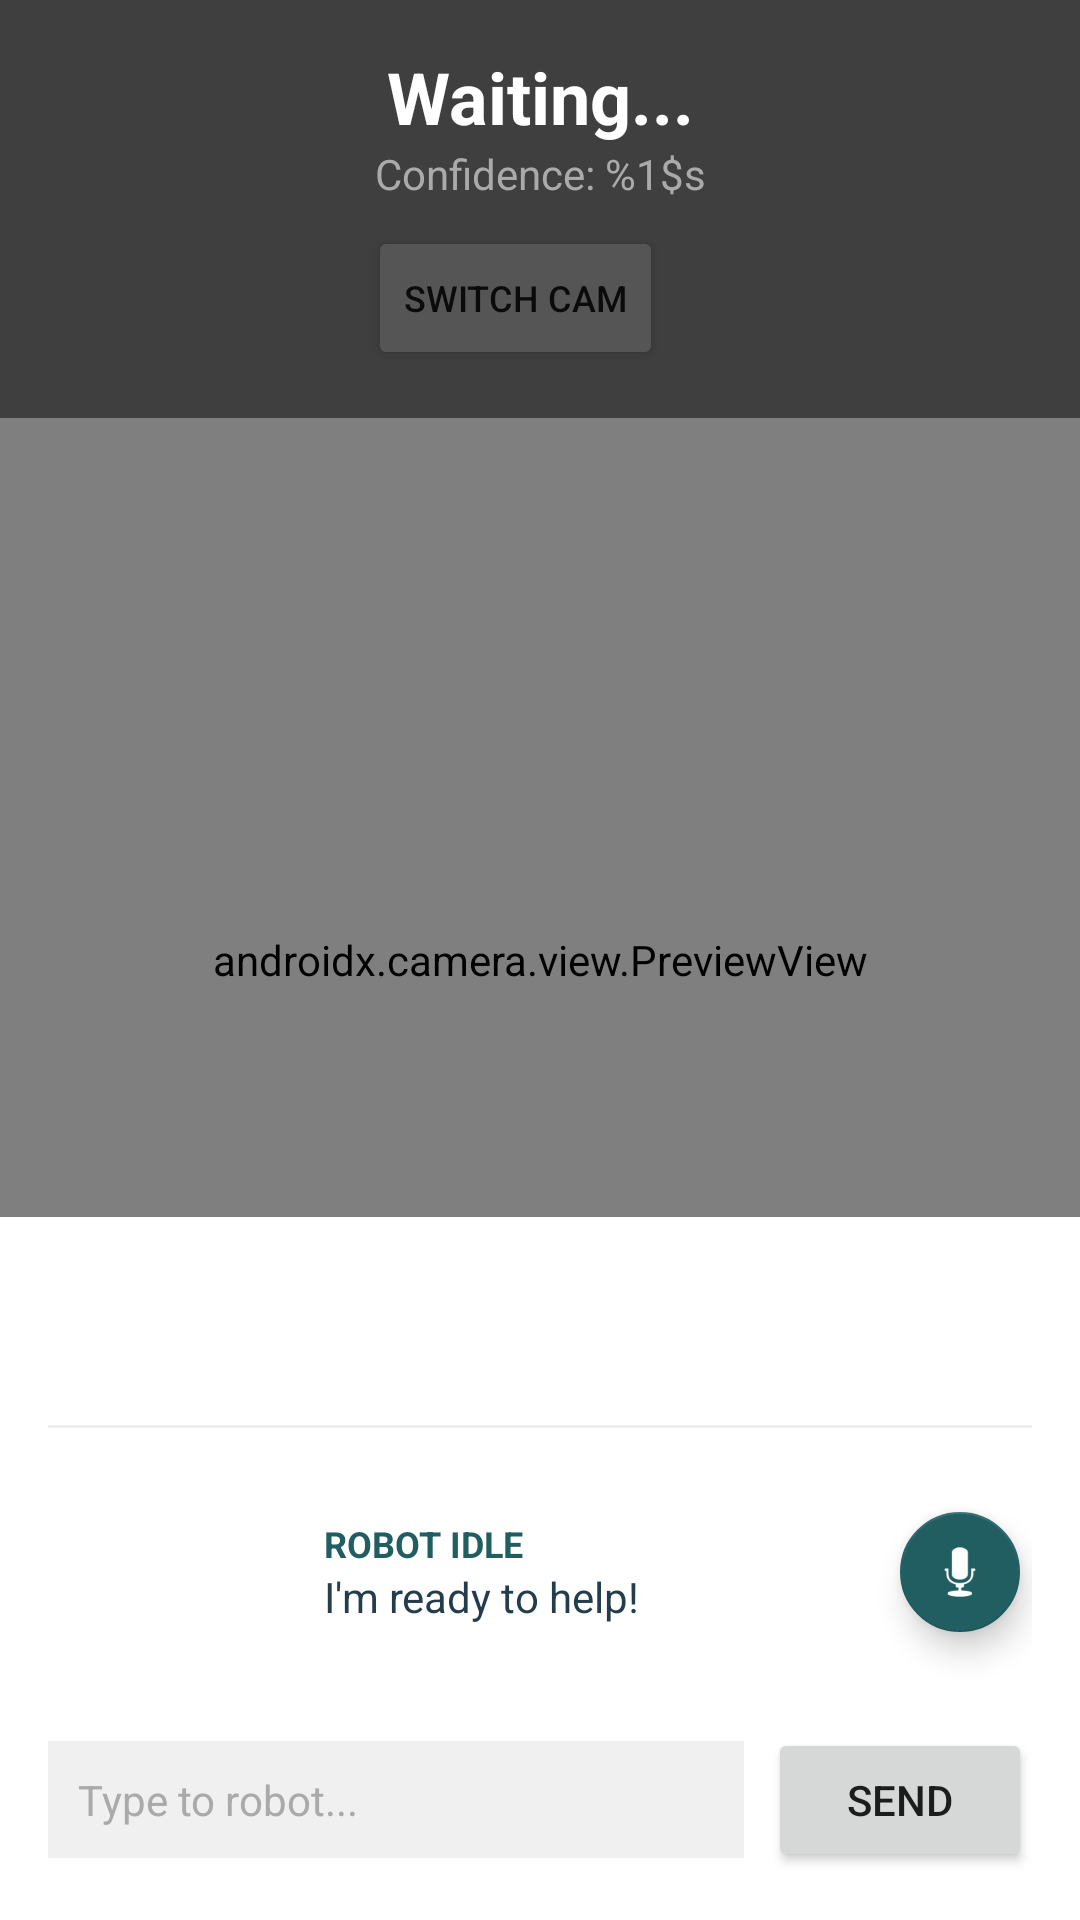

Named icons in this screenshot (1080 × 1920) and their centers, (x=x, y=y):
speak now: (x=961, y=1578)
